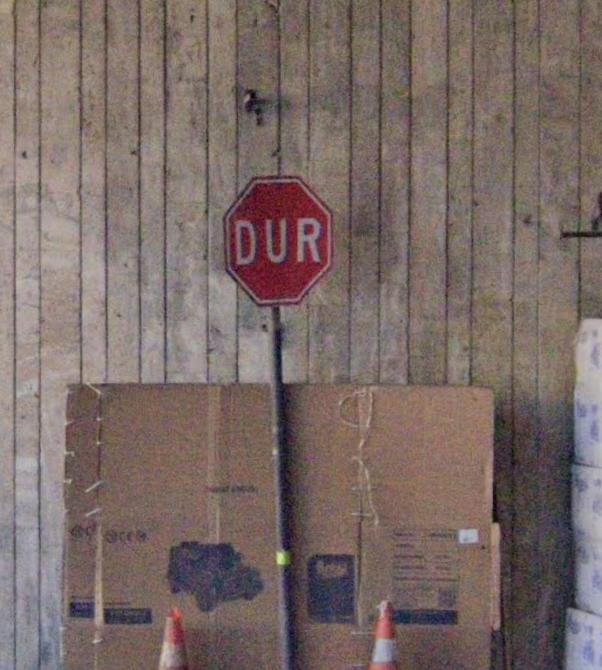stop: (222, 175, 337, 305)
